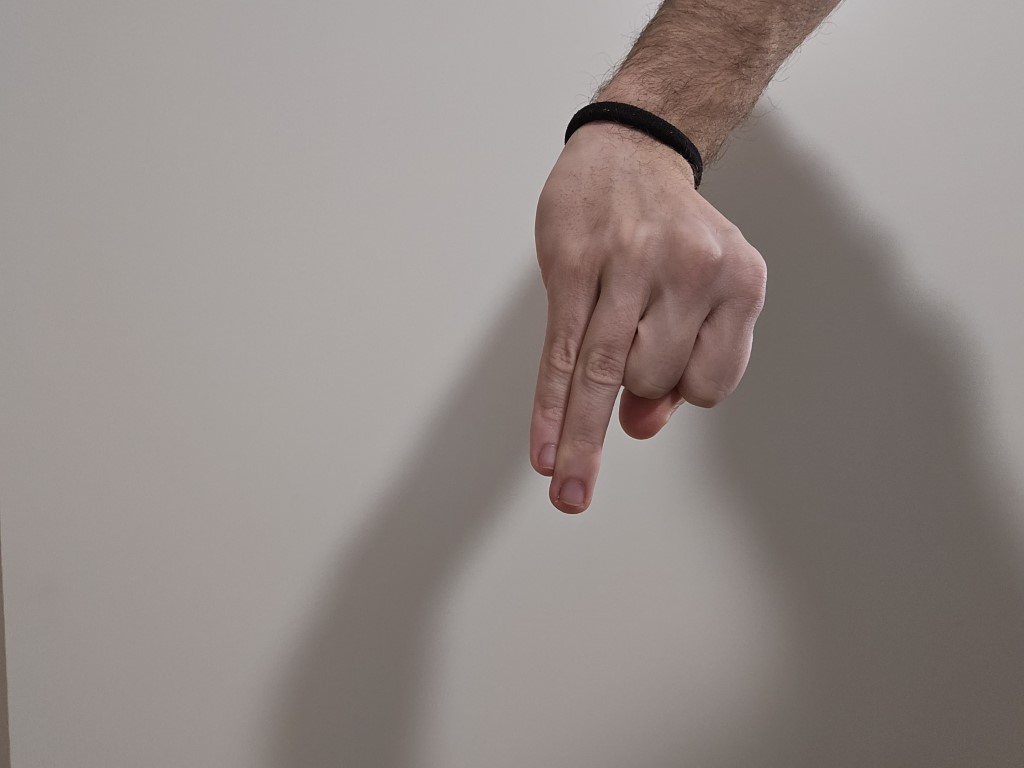n: (520, 133, 779, 539)
